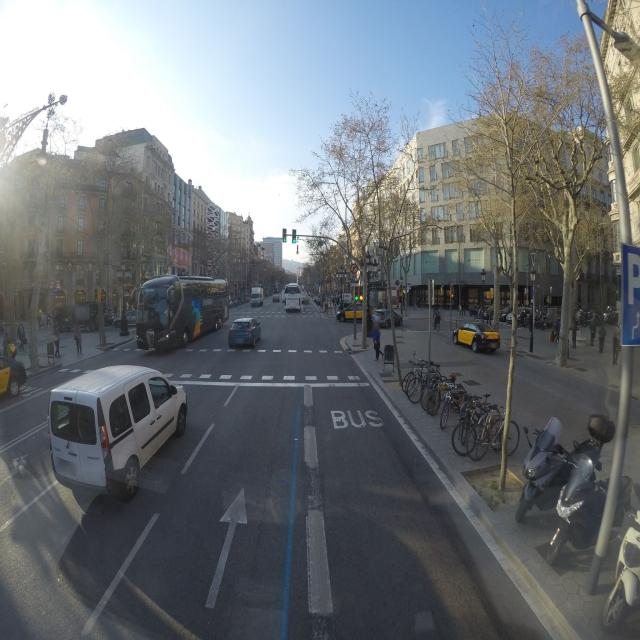forb_stopping: (394, 280, 399, 286)
